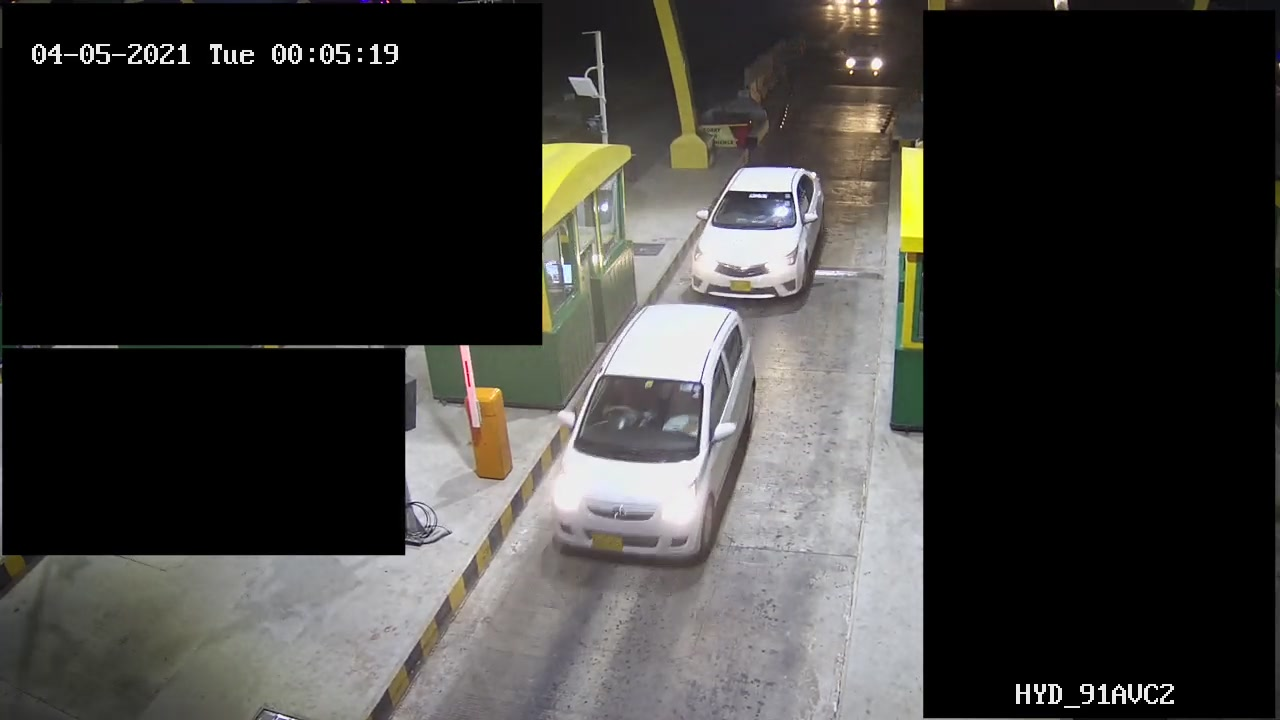F1: (545, 304, 772, 573), (680, 161, 835, 305)
